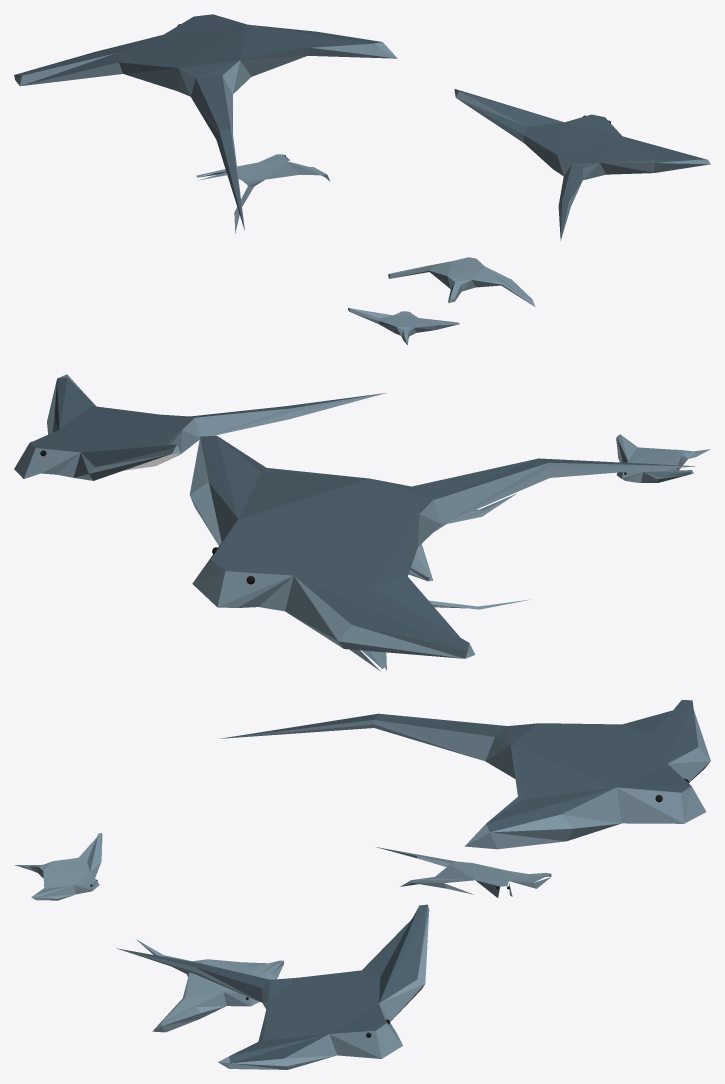
The model's file is scene_gldHY0cQua.glb.
3 views of the same model, one above another, from view 1: azimuth 30°, elevation 25°; view 2: azimuth 150°, elevation 25°; view 3: azimuth 270°, elevation 25° (orthographic). The views are drawn at different scales.
Visible parts, largest first — view 1: Node; view 2: Node; view 3: Node.
Boxes of the visible parts, x1,y1,x2,y2 form: Node: (14,14,710,344); Node: (14,374,709,671); Node: (14,700,710,1069).
Size of the model in its own units: 8.89 by 2.92 by 9.07.
